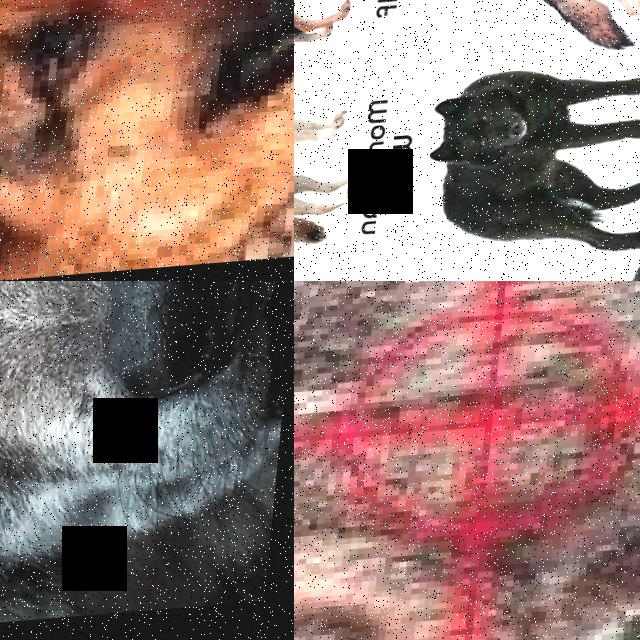dog: (0, 0, 294, 281)
wolf: (294, 281, 640, 640), (0, 281, 294, 640), (407, 25, 640, 279), (294, 44, 383, 281), (400, 251, 640, 281)
